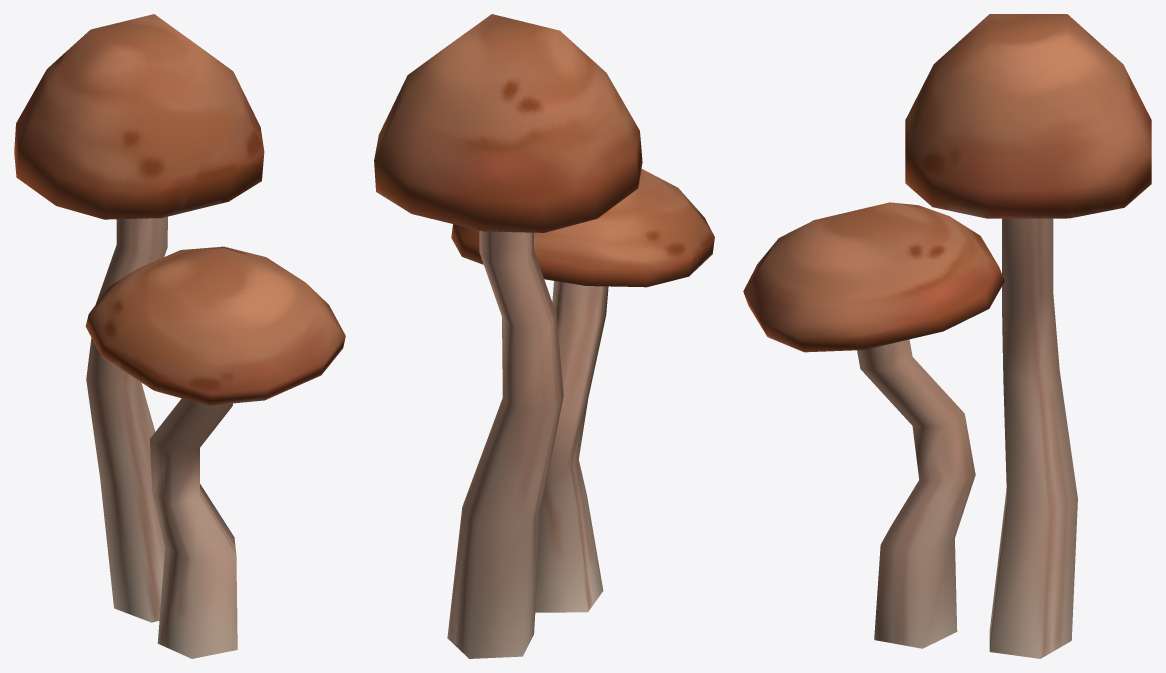
File: hongo3.fbx
3 renders of one model, left to right at view 1: azimuth 30°, elevation 25°; view 2: azimuth 150°, elevation 25°; view 3: azimuth 270°, elevation 25°, orthographic. The views are drawn at different scales.
Visible parts, largest first — view 1: HONGO3; view 2: HONGO3; view 3: HONGO3.
Part boxes in pixels (box(x1,y1,x2,y2)): HONGO3: box(14, 14, 345, 658); HONGO3: box(374, 14, 714, 658); HONGO3: box(743, 14, 1151, 658).
Bounding box in the file's own units: 165 × 422 × 259.
